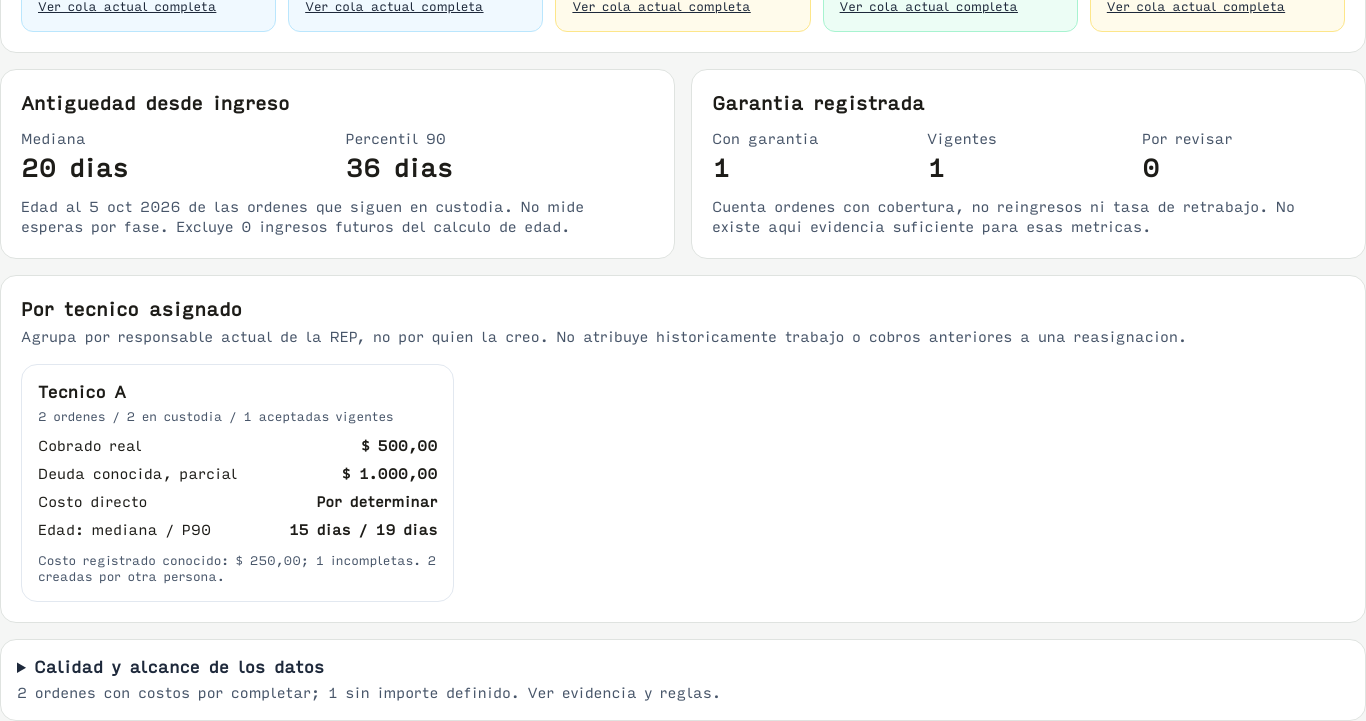
Test: workshop business UI › prioritizes actionable colored financial evidence and folds quality details without hiding uncertainty
The width and height of the screenshot is (1366, 721).
(page scrolled)
Expected: the text "Calidad y alcance de los datos" is shown, [34,658,324,677]
Click the heading that starts with "Calidad y alcance de los datos".
click(179, 667)  # box [17,658,721,702]
(page scrolled)
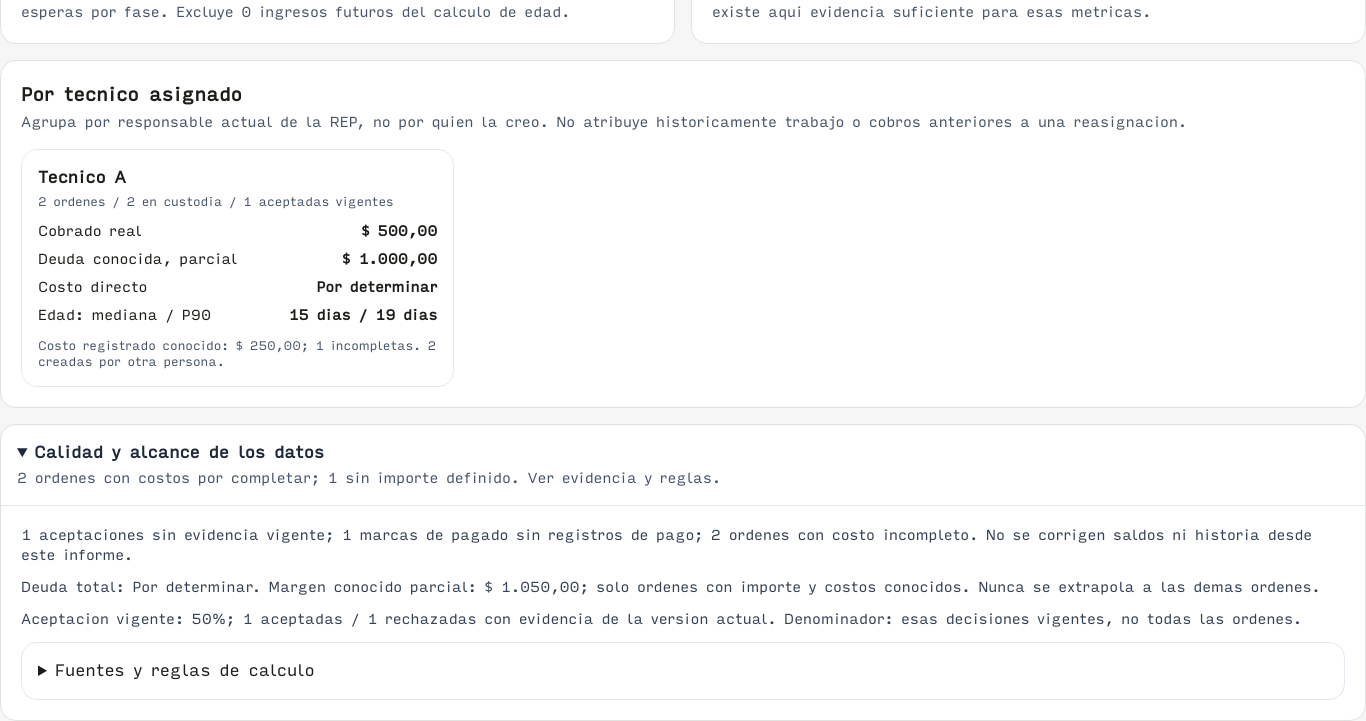
Expected: the text "marcas de pagado sin registros de pago" is shown, [352,527,711,544]
